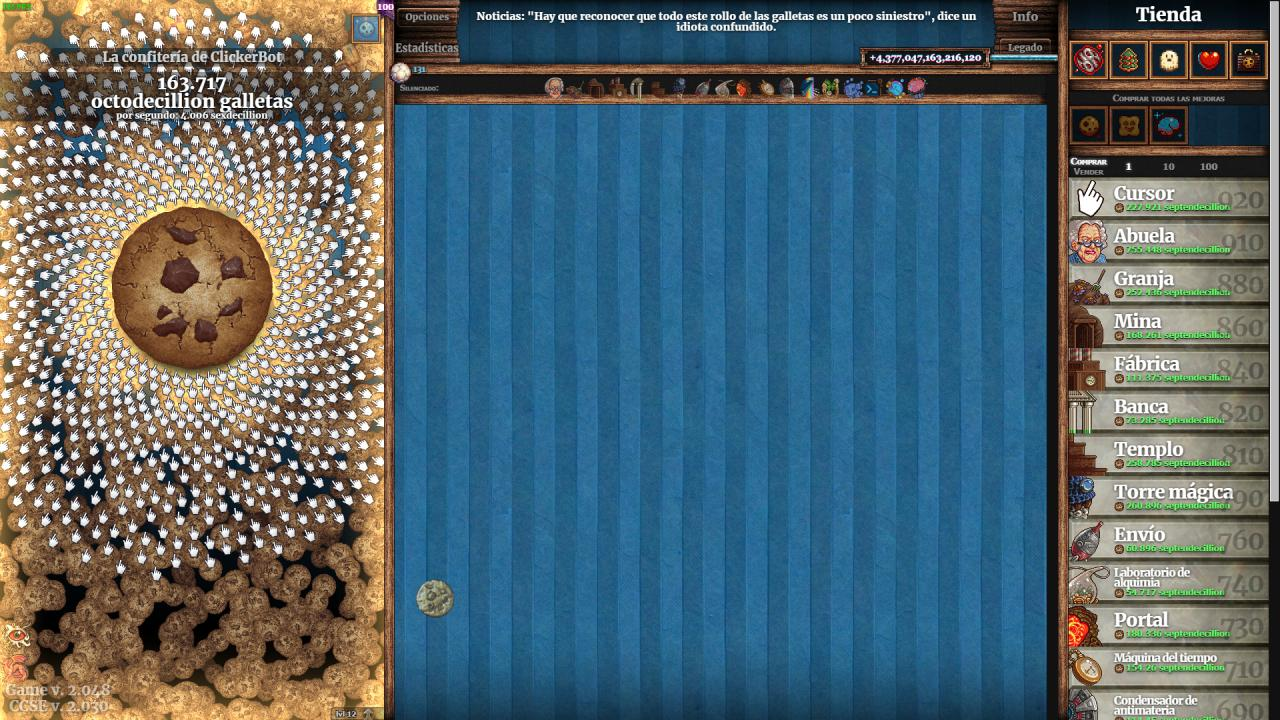GoldenCookie: (416, 578, 456, 619)
